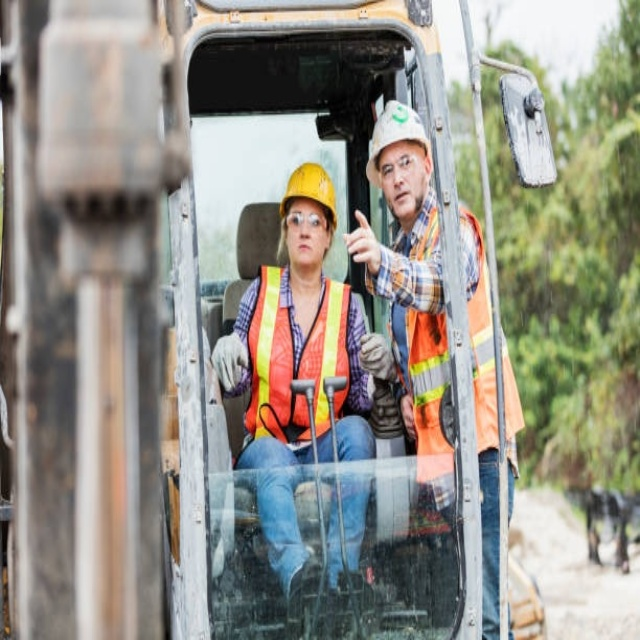Gafas: (379, 153, 421, 182), (285, 211, 326, 229)
Guantes: (210, 328, 250, 395), (356, 331, 399, 381)
Sin_guantes: (341, 205, 381, 273)
Sin_mascara: (291, 238, 316, 265), (390, 190, 414, 215)
